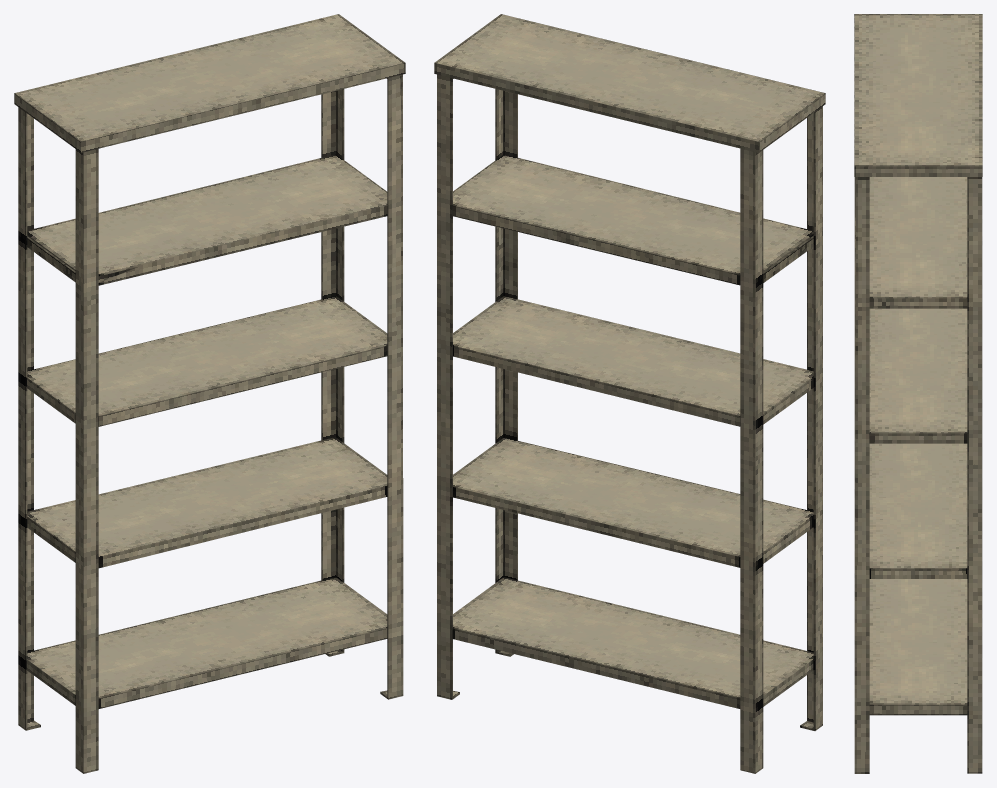
The model's file is metal_shelf.glb.
The picture shows the model from 3 angles, left to right: view 1: azimuth 30°, elevation 25°; view 2: azimuth 150°, elevation 25°; view 3: azimuth 270°, elevation 25°; orthographic projection. The views are drawn at different scales.
Visible parts, largest first — view 1: metal_shelf; view 2: metal_shelf; view 3: metal_shelf.
Part boxes in pixels (x1=…): metal_shelf: x1=14, y1=14, x2=405, y2=773; metal_shelf: x1=434, y1=14, x2=825, y2=773; metal_shelf: x1=854, y1=14, x2=982, y2=773.
Size of the model in its own units: 1.14 by 2.12 by 0.4054.
1 material, 1 textured.
